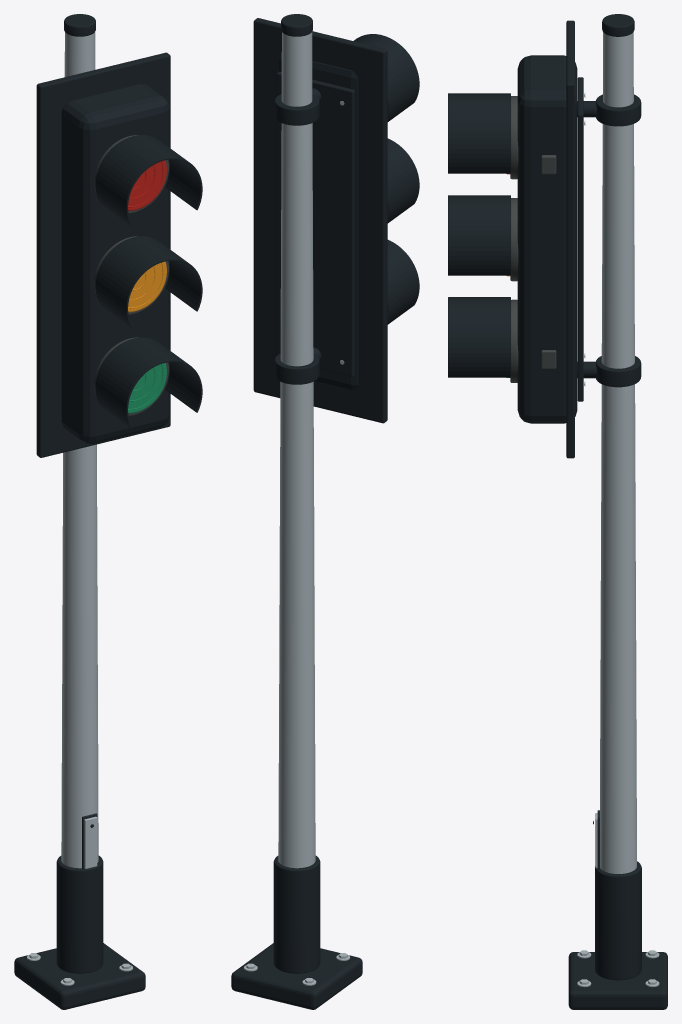
Rendered from city-traffic-signal.glb.
The picture shows the model from 3 angles, left to right: view 1: azimuth 30°, elevation 25°; view 2: azimuth 150°, elevation 25°; view 3: azimuth 270°, elevation 25°; orthographic projection.
Parts seen in each view (by area): view 1: Signal housing, Signal post, Black contrast backplate, Post lower sleeve, Deep rain and sun visor.002, Deep rain and sun visor.001, Deep rain and sun visor, Signal foundation flange, Green lens, Red lens, Amber lens, Pole access door (+1 smaller); view 2: Signal post, Black contrast backplate, Rear service lid, Post lower sleeve, Signal foundation flange, Signal housing, Deep rain and sun visor, Deep rain and sun visor.002, Deep rain and sun visor.001, Post mounting collar.001, Post mounting collar, Post cap; view 3: Signal post, Signal housing, Deep rain and sun visor, Deep rain and sun visor.001, Deep rain and sun visor.002, Post lower sleeve, Signal foundation flange, Black contrast backplate, Rear service lid, Post mounting collar.001, Post mounting collar, Post cap (+3 smaller).
Part boxes in pixels (<box>): Signal housing: <box>61,84,169,443</box>; Signal post: <box>61,32,98,868</box>; Black contrast backplate: <box>36,52,170,457</box>; Post lower sleeve: <box>56,855,103,973</box>; Deep rain and sun visor.002: <box>95,337,202,428</box>; Deep rain and sun visor.001: <box>95,236,202,327</box>; Deep rain and sun visor: <box>95,135,202,226</box>; Signal foundation flange: <box>14,943,145,1009</box>; Green lens: <box>128,363,166,413</box>; Red lens: <box>128,160,166,210</box>; Amber lens: <box>128,261,166,312</box>; Pole access door: <box>84,816,97,868</box>; Signal post: <box>278,32,315,868</box>; Black contrast backplate: <box>253,18,387,423</box>; Rear service lid: <box>276,71,354,376</box>; Post lower sleeve: <box>273,855,320,973</box>; Signal foundation flange: <box>231,943,362,1009</box>; Signal housing: <box>279,56,358,390</box>; Deep rain and sun visor: <box>353,34,419,121</box>; Deep rain and sun visor.002: <box>387,240,419,324</box>; Deep rain and sun visor.001: <box>387,138,419,223</box>; Post mounting collar.001: <box>274,94,319,125</box>; Post mounting collar: <box>274,353,319,384</box>; Post cap: <box>281,14,312,36</box>; Signal post: <box>600,32,636,873</box>; Signal housing: <box>517,55,577,423</box>; Deep rain and sun visor: <box>448,93,510,173</box>; Deep rain and sun visor.001: <box>448,195,510,275</box>; Deep rain and sun visor.002: <box>448,297,510,377</box>; Post lower sleeve: <box>595,861,641,980</box>; Signal foundation flange: <box>568,952,667,1009</box>; Black contrast backplate: <box>566,20,574,458</box>; Rear service lid: <box>577,77,583,401</box>; Post mounting collar.001: <box>595,94,641,126</box>; Post mounting collar: <box>595,356,641,387</box>; Post cap: <box>602,14,634,36</box>.
Size of the model in its own units: 0.46 by 3.24 by 0.665.
